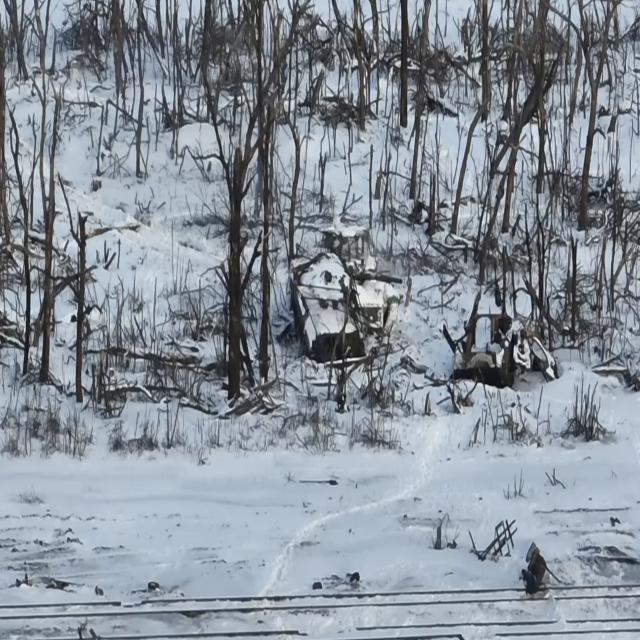vehicle: (320, 212, 404, 334), (448, 303, 556, 389), (290, 256, 362, 361)
